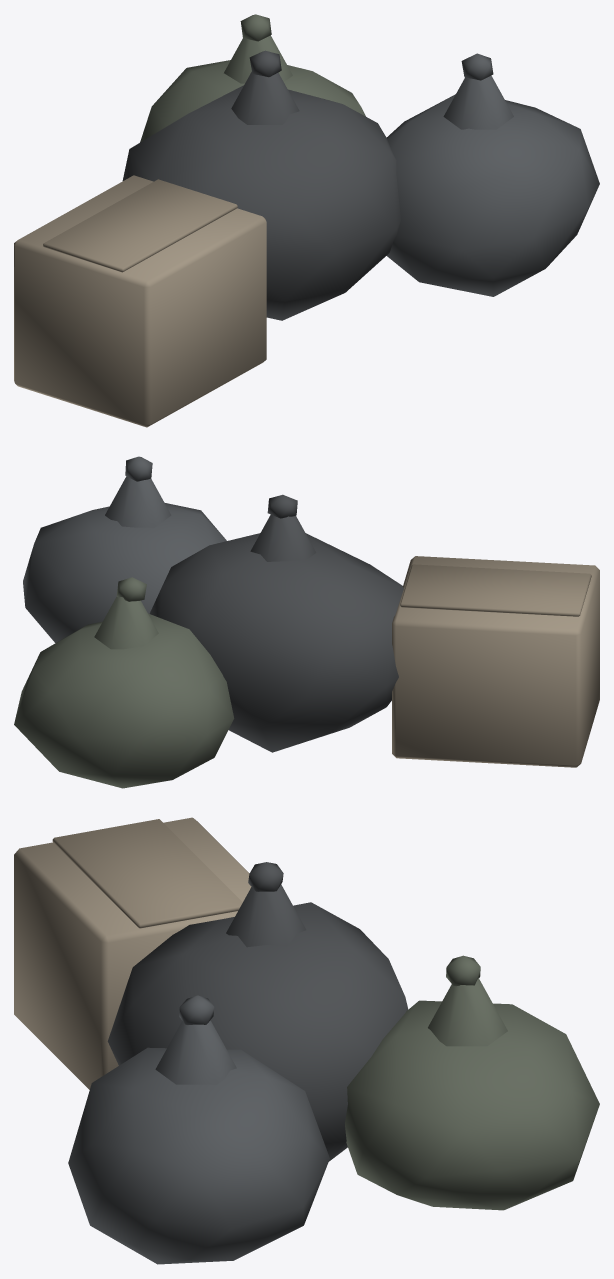
File: trash_bags.glb
3 views of the same model, one above another, from view 1: azimuth 30°, elevation 25°; view 2: azimuth 150°, elevation 25°; view 3: azimuth 270°, elevation 25° (orthographic). The views are drawn at different scales.
Visible parts, largest first — view 1: TrashBags; view 2: TrashBags; view 3: TrashBags.
Part boxes in pixels (left/top/right/bottom): TrashBags: left=14, top=14, right=599, bottom=427; TrashBags: left=14, top=456, right=599, bottom=788; TrashBags: left=14, top=817, right=599, bottom=1264.
Size of the model in its own units: 1.31 by 0.5339 by 0.9969.
